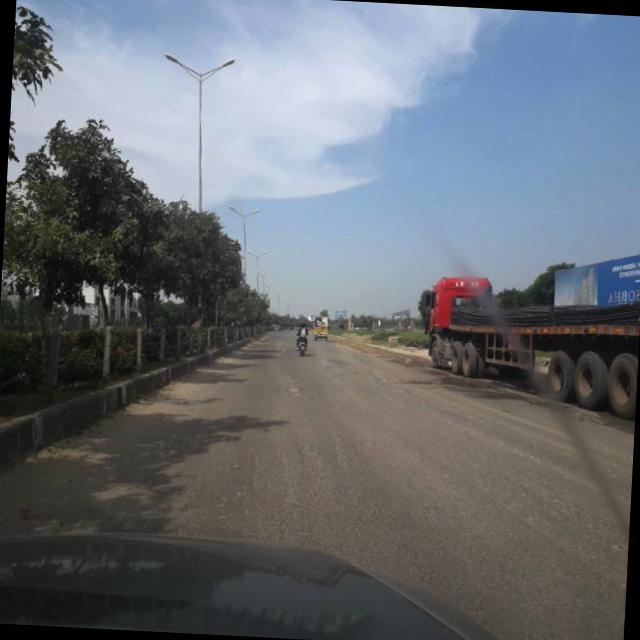crack: (159, 372, 599, 595)
pothole: (294, 438, 326, 466), (278, 375, 310, 403)
